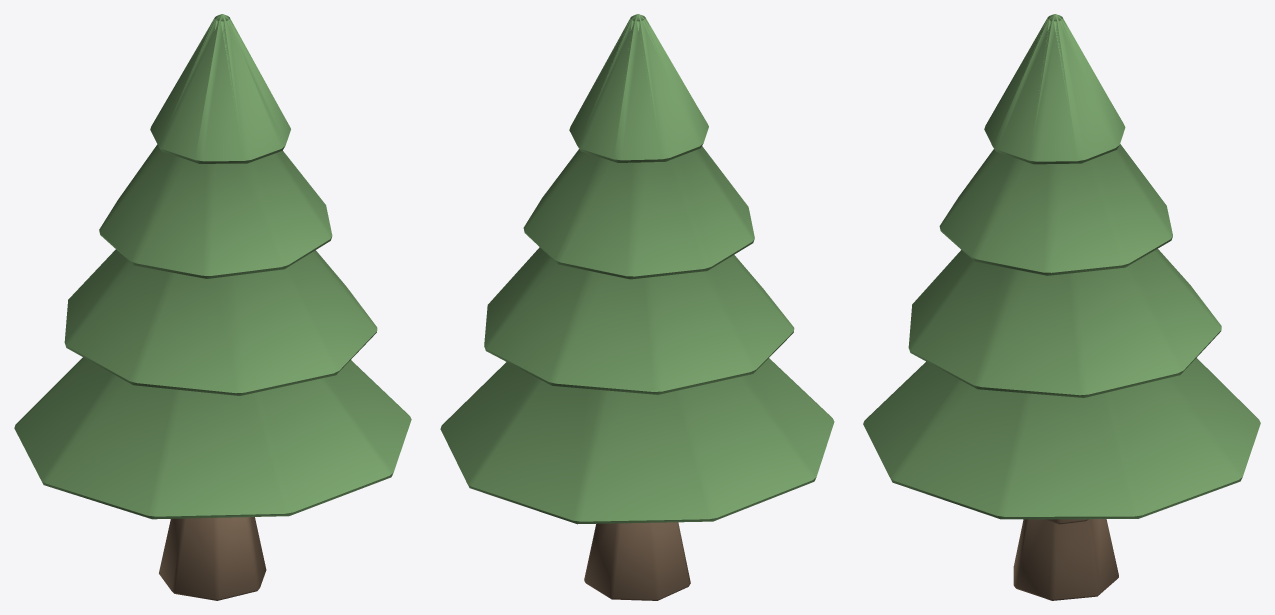
Rendered from pine_cluster_lod0.glb.
The picture shows the model from 3 angles, left to right: view 1: azimuth 30°, elevation 25°; view 2: azimuth 150°, elevation 25°; view 3: azimuth 270°, elevation 25°; orthographic projection.
Visible parts, largest first — view 1: pine_cluster; view 2: pine_cluster; view 3: pine_cluster.
Part boxes in pixels (<box>): pine_cluster: <box>14,14,411,600</box>; pine_cluster: <box>440,14,834,600</box>; pine_cluster: <box>863,14,1260,600</box>.
Size of the model in its own units: 2.64 by 4.19 by 2.67.
